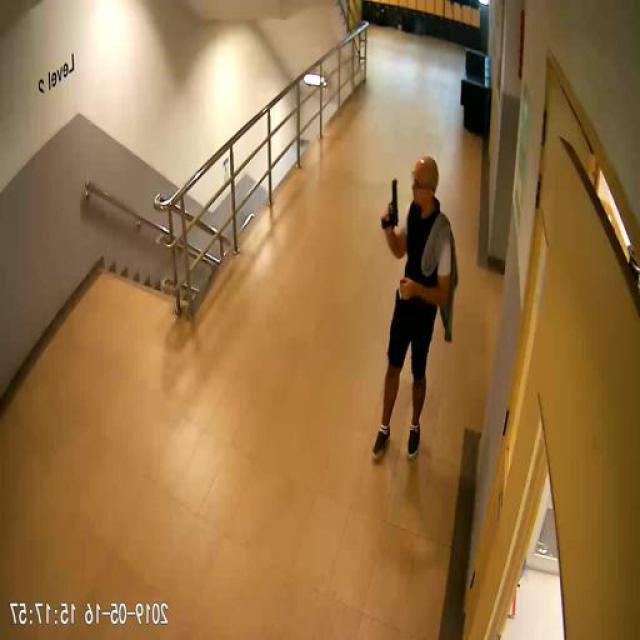Gun: (384, 178, 400, 228)
